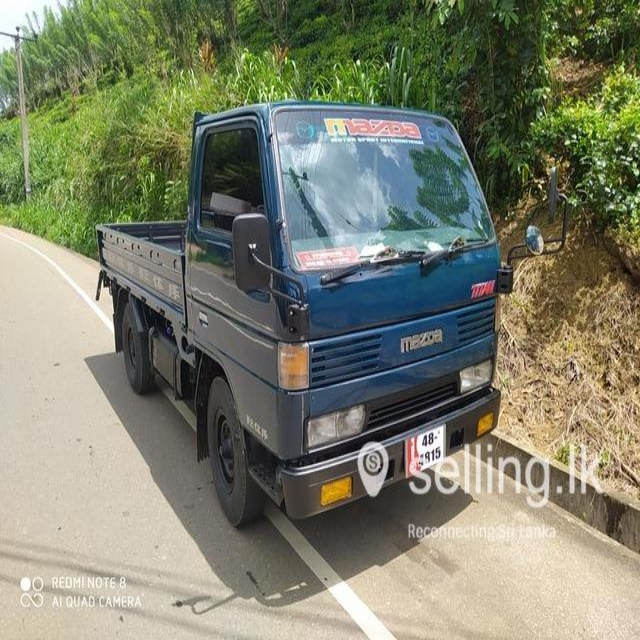Truck: (95, 97, 565, 531)
